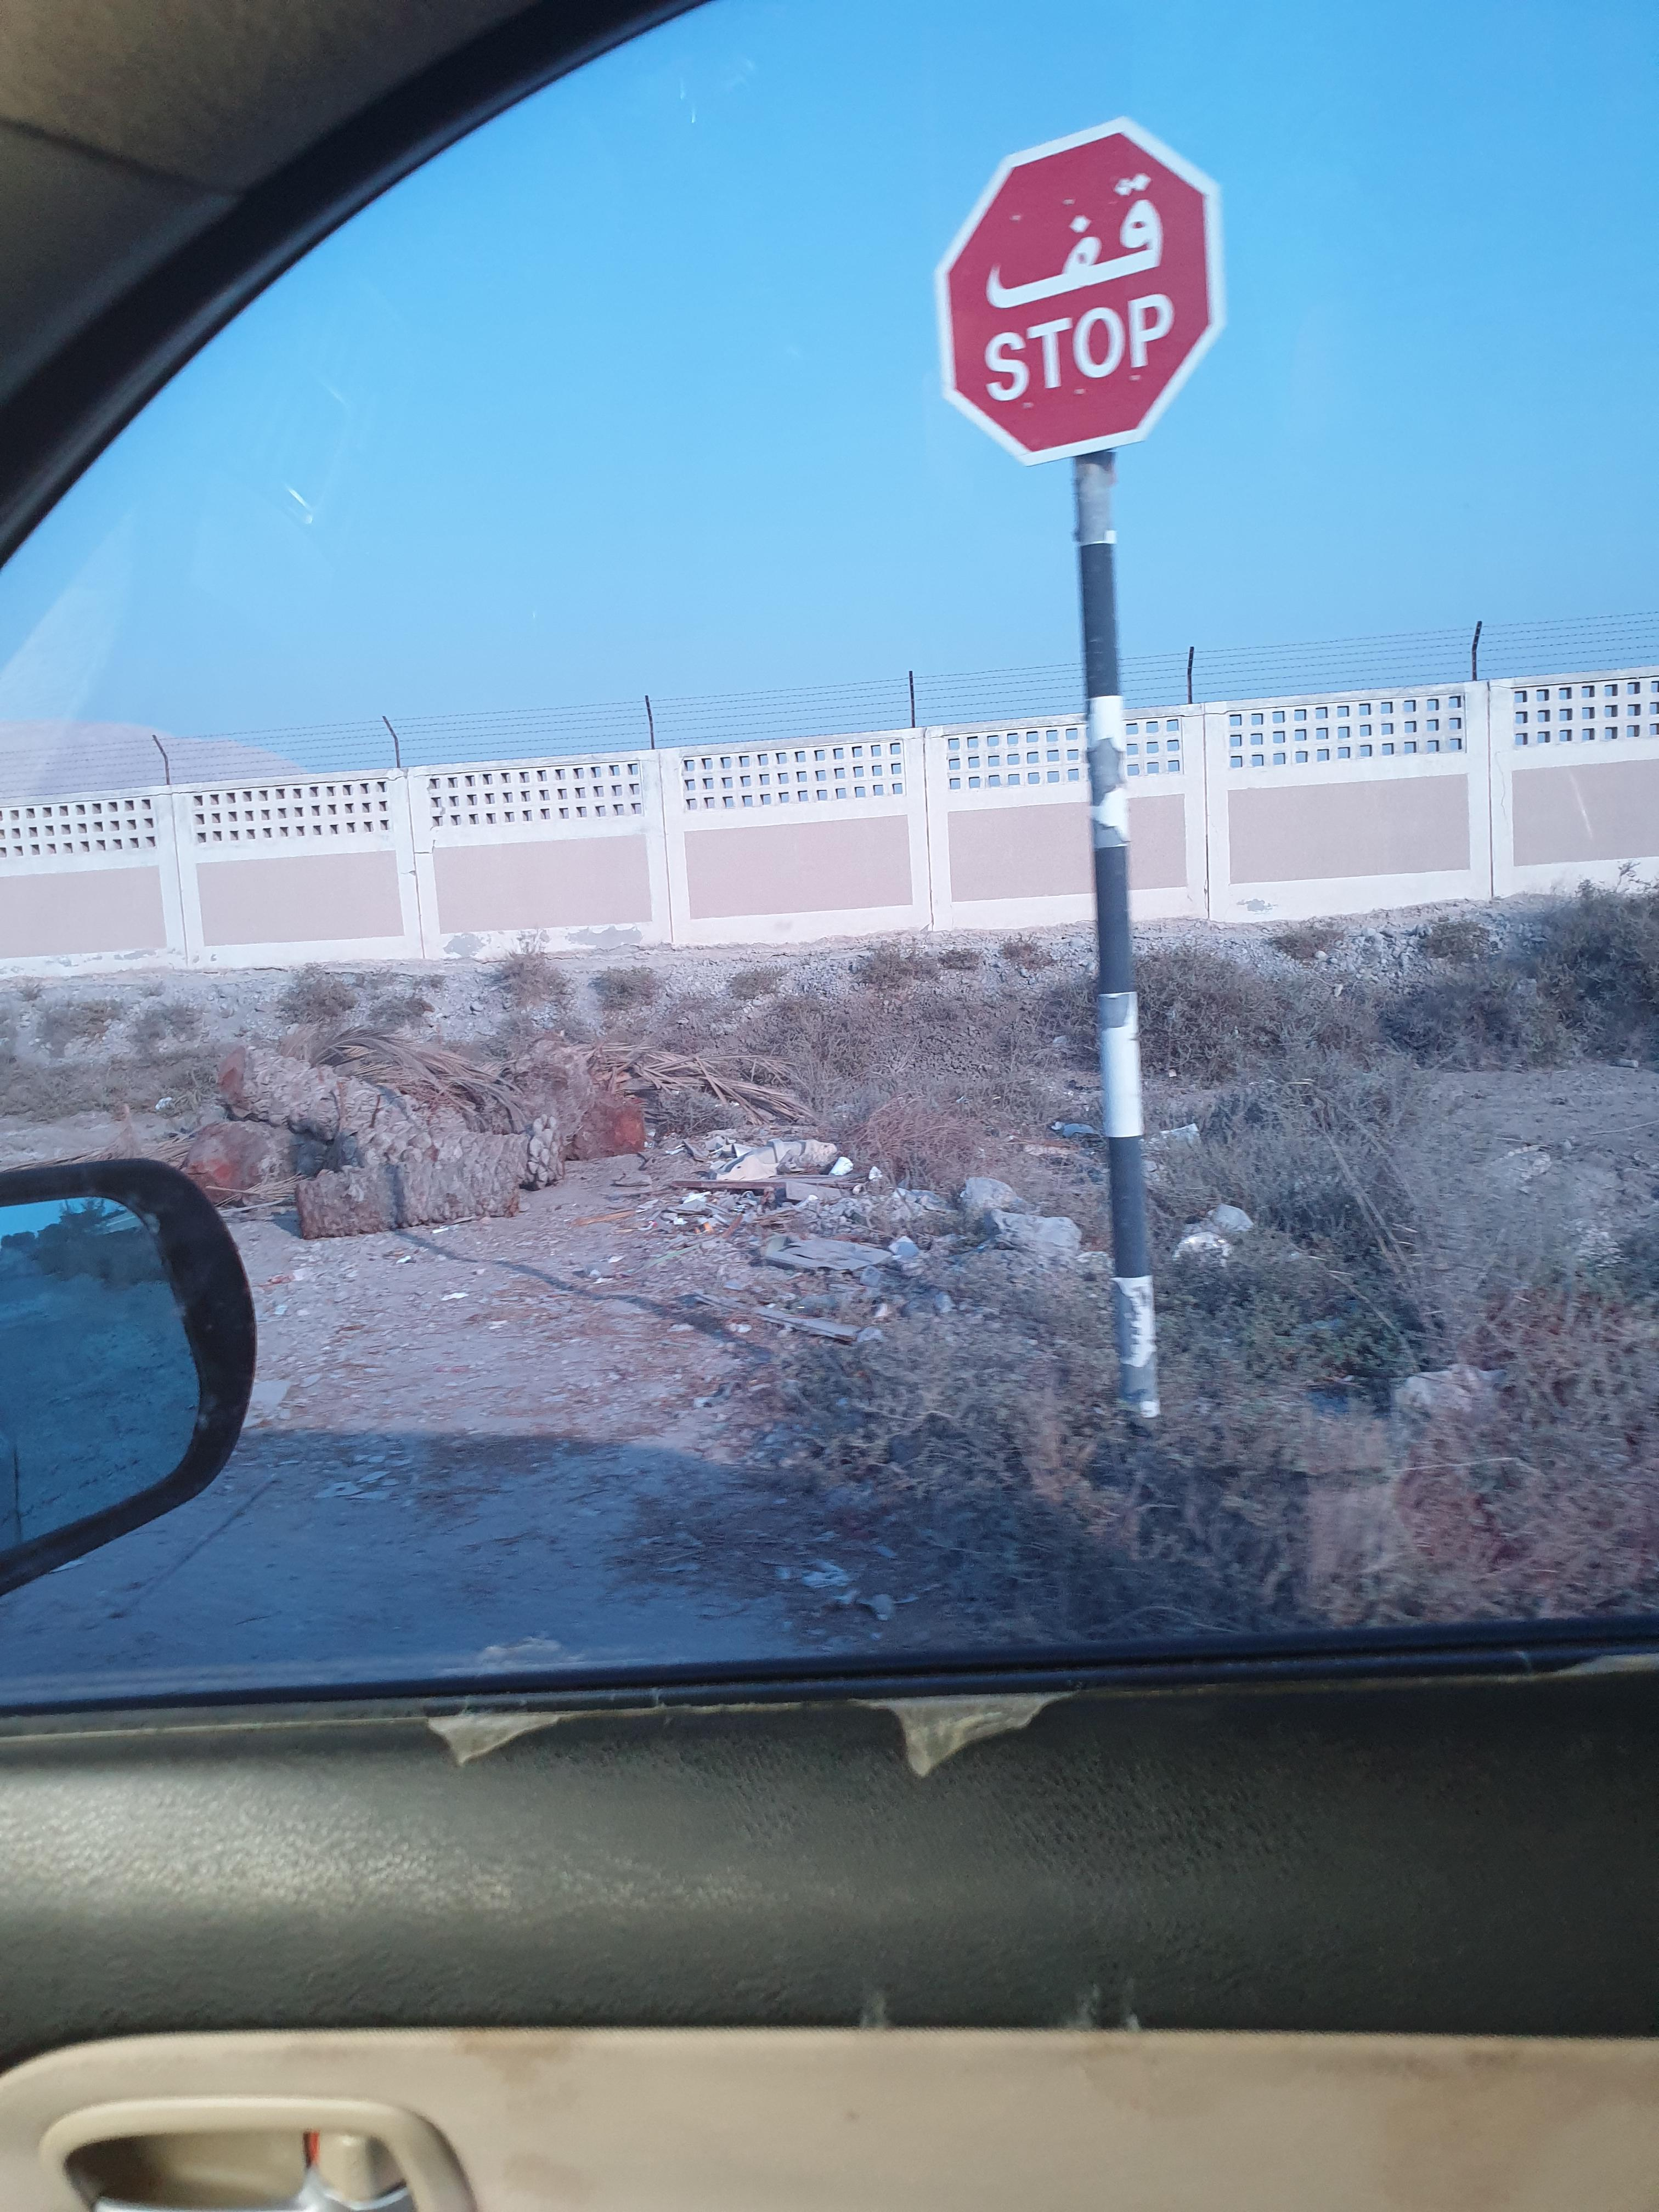fallen_trees: (364, 1005, 622, 1132), (559, 995, 749, 1136), (193, 1036, 437, 1146), (647, 1029, 835, 1158), (301, 1146, 549, 1238)
